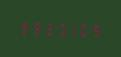nine: (29, 18, 40, 36), (17, 18, 28, 35), (89, 21, 100, 38)
one: (65, 20, 76, 37)
two: (41, 19, 52, 36)
zero: (53, 19, 64, 37), (77, 20, 88, 37)
